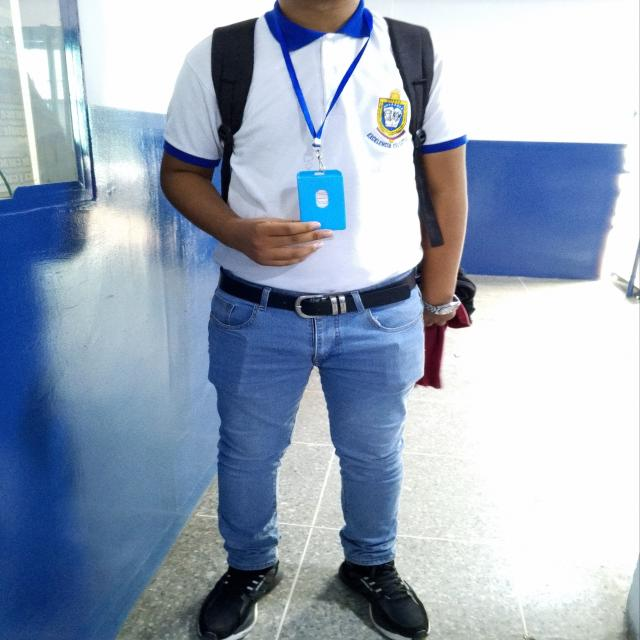carnet: (295, 170, 348, 230)
uniforme_superior: (162, 0, 468, 294)
